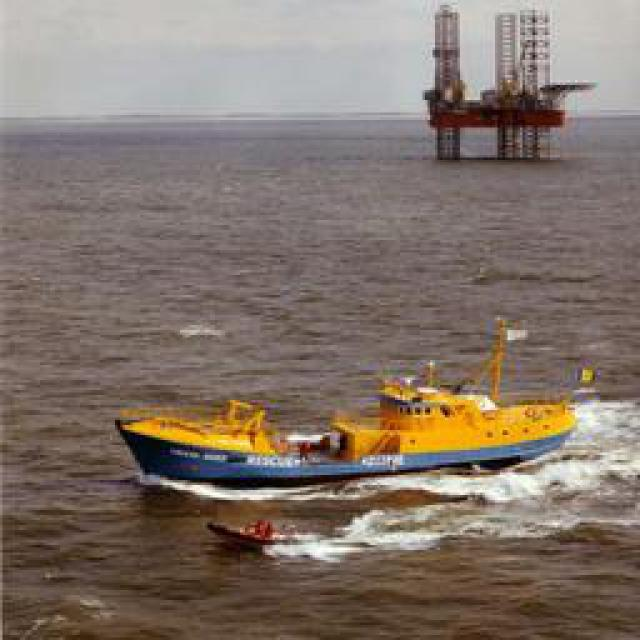Ship: (123, 354, 581, 494)
